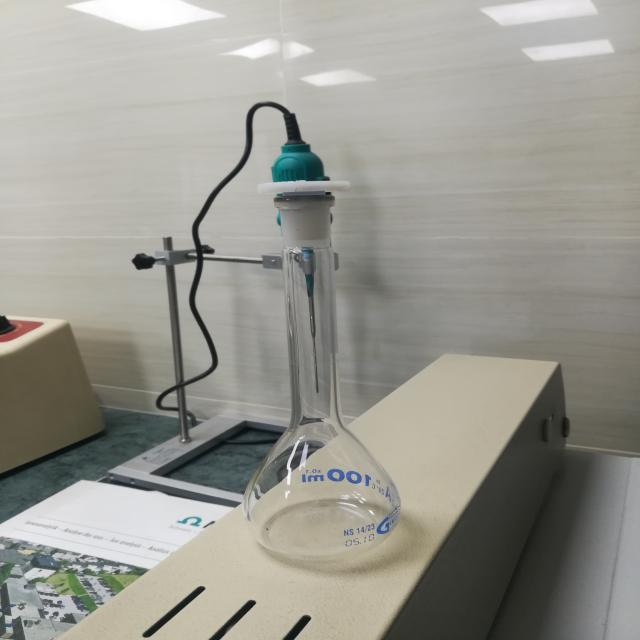Volumetric_Flask: (218, 144, 442, 586)
